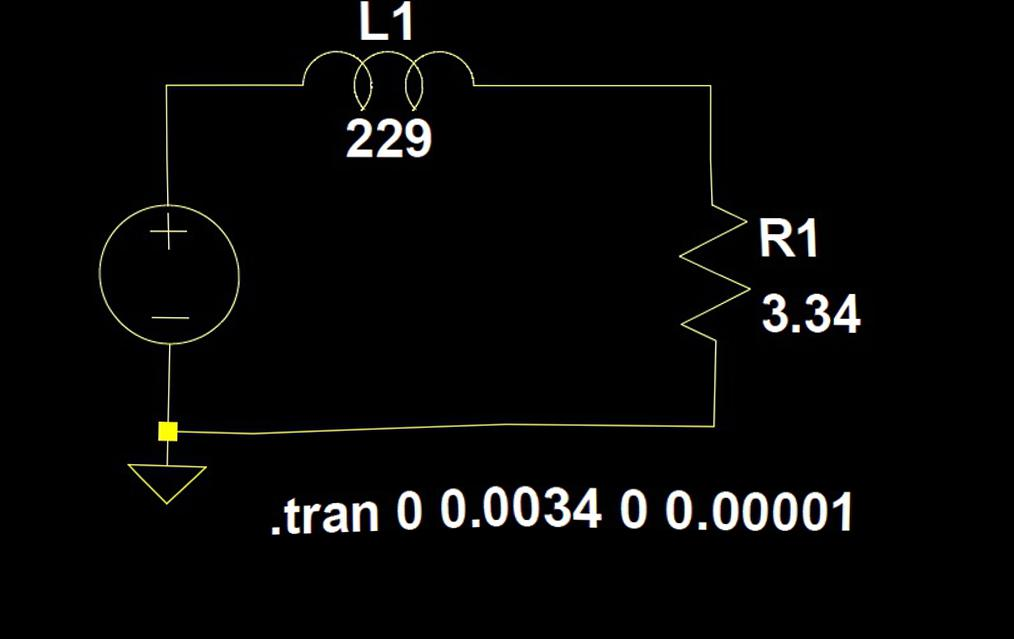Battery: (66, 191, 281, 377)
